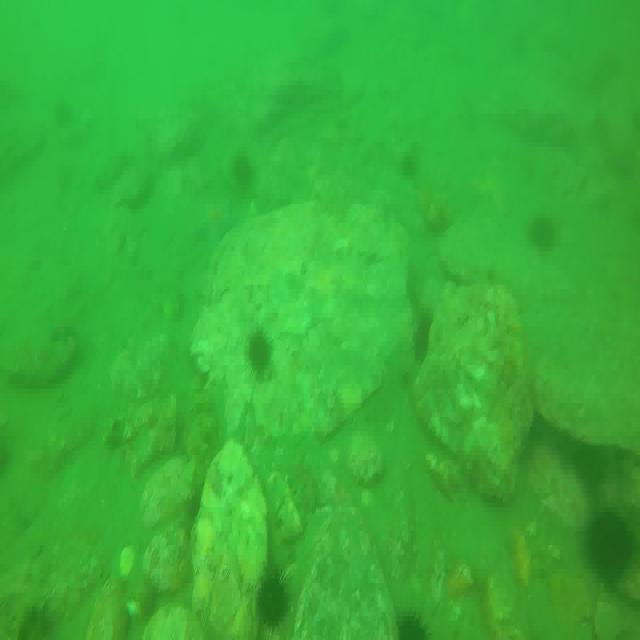echinus: (583, 506, 634, 583), (254, 569, 290, 635), (574, 448, 610, 500), (525, 213, 556, 254), (247, 331, 274, 373), (389, 611, 428, 640), (412, 317, 432, 360), (232, 153, 255, 183)
starfish: (195, 198, 238, 252)
